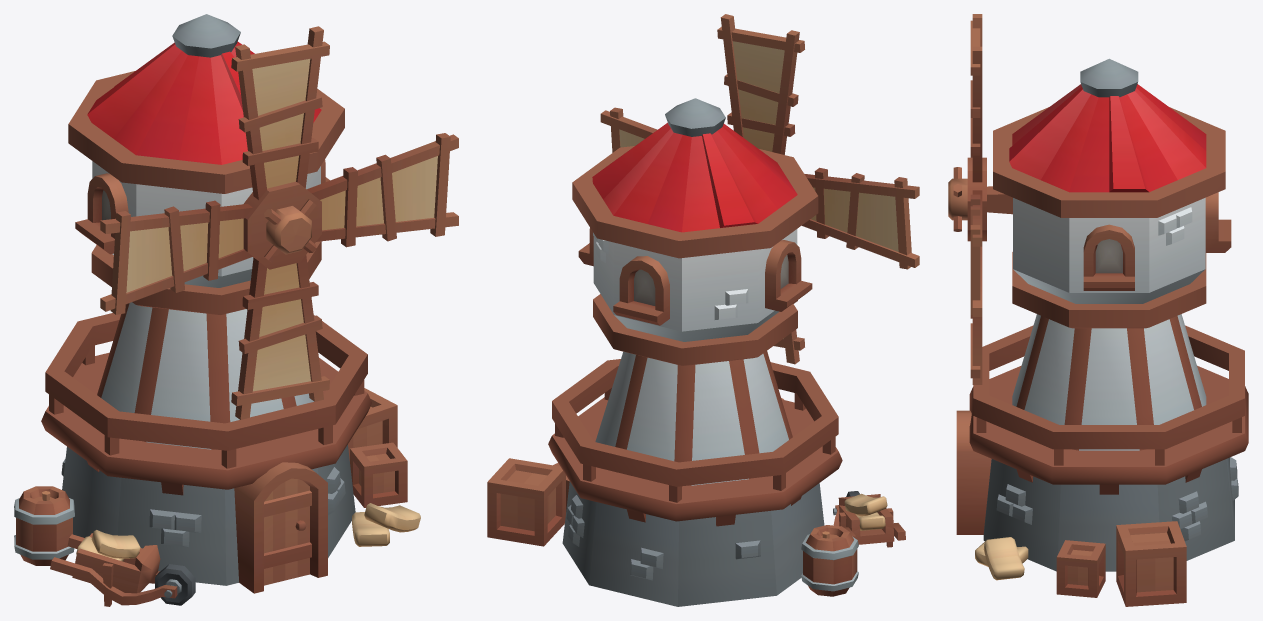
The model's file is k-windmill-kaykit.glb.
3 views of the same model, side by side, from view 1: azimuth 30°, elevation 25°; view 2: azimuth 150°, elevation 25°; view 3: azimuth 270°, elevation 25° (orthographic). The views are drawn at different scales.
Parts seen in each view (by area): view 1: building_windmill_red, building_windmill_top_fan_red, building_windmill_top_red; view 2: building_windmill_red, building_windmill_top_red, building_windmill_top_fan_red; view 3: building_windmill_red, building_windmill_top_red, building_windmill_top_fan_red.
Boxes of the visible parts, x1,y1,x2,y2 form: building_windmill_red: (14, 302, 420, 606); building_windmill_top_fan_red: (100, 26, 458, 419); building_windmill_top_red: (68, 14, 344, 314); building_windmill_red: (487, 351, 905, 606); building_windmill_top_red: (572, 98, 818, 365); building_windmill_top_fan_red: (600, 14, 919, 364); building_windmill_red: (956, 314, 1248, 606); building_windmill_top_red: (987, 58, 1231, 328); building_windmill_top_fan_red: (948, 14, 986, 384).
Bounding box in the file's own units: 1.13 × 1.46 × 0.8165.
1 material, 1 textured.
